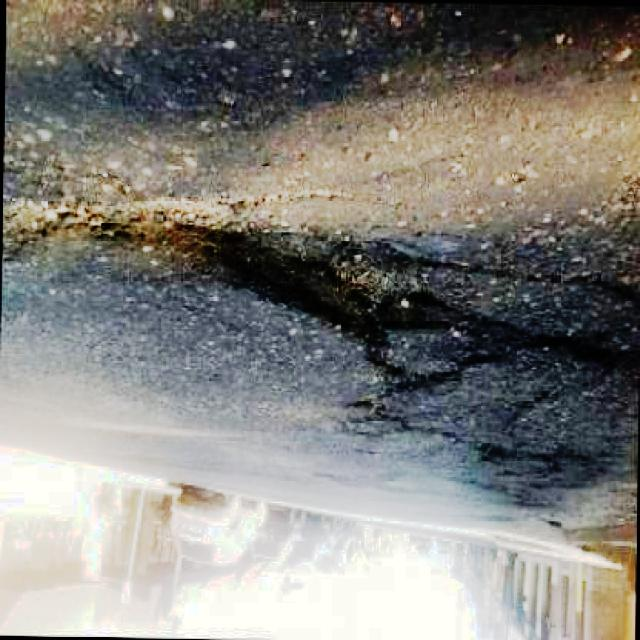pothole: (0, 180, 423, 348), (424, 257, 640, 377)
